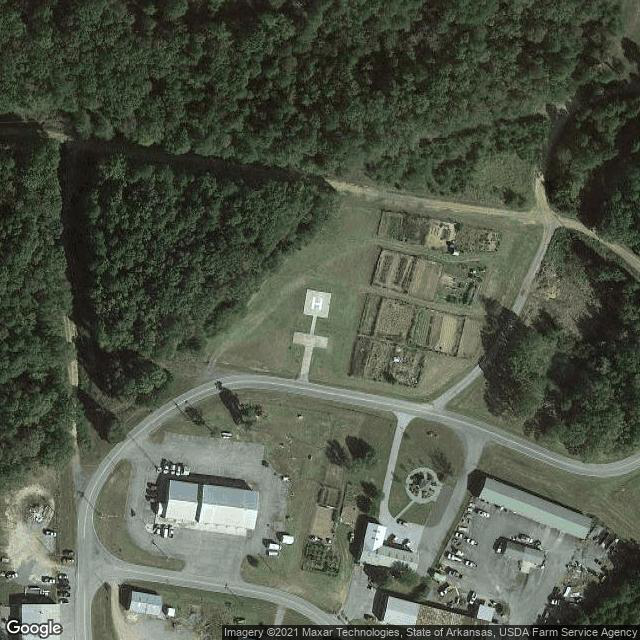Helipad: (302, 285, 332, 321)
